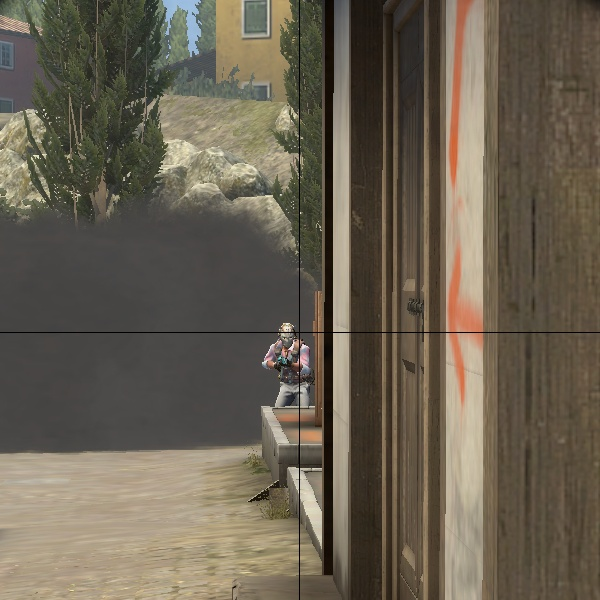t_body: (240, 312, 319, 512)
